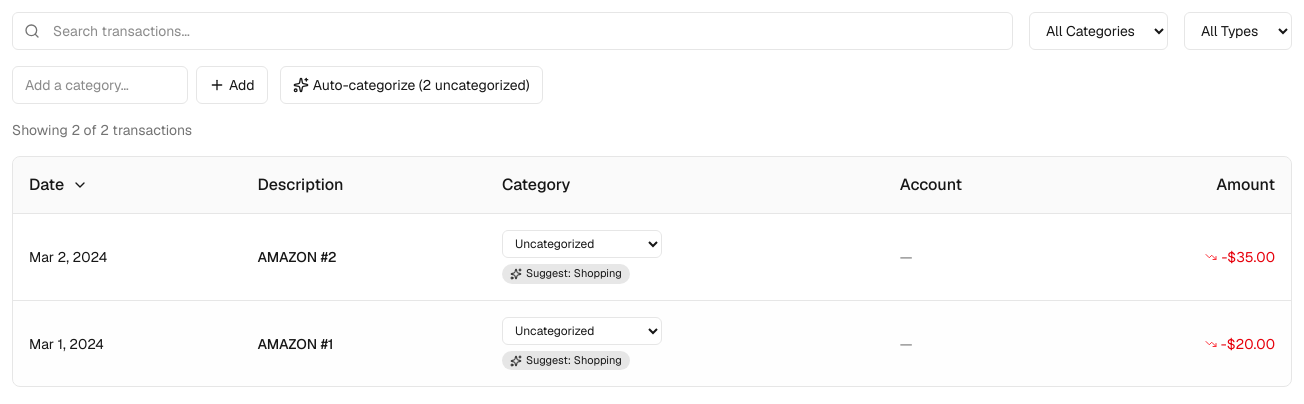
TransactionTable › categorization › applies a category to every transaction from the same merchant
Tag the first Amazon row, then propagate to the merchant.
Select "Shopping" in the dropdown named "Category for AMAZON #1" at {"x": 582, "y": 331}, box x1=502 y1=317 x2=662 y2=345
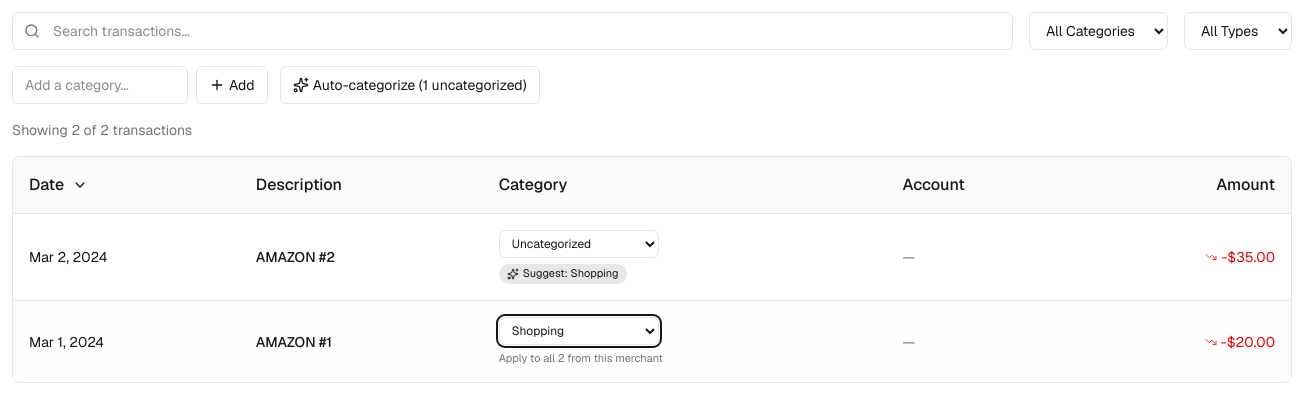
Click the button "Apply to all 2 from this merchant" at {"x": 581, "y": 359}, box x1=499 y1=351 x2=663 y2=366
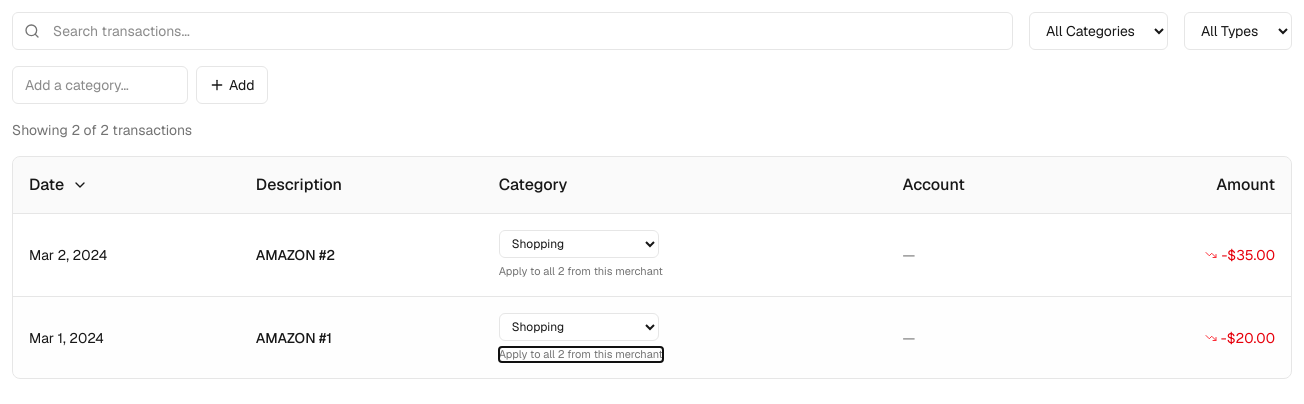
Check: the dropdown named "Category for AMAZON #2" shows "Shopping", box x1=499 y1=230 x2=659 y2=258
